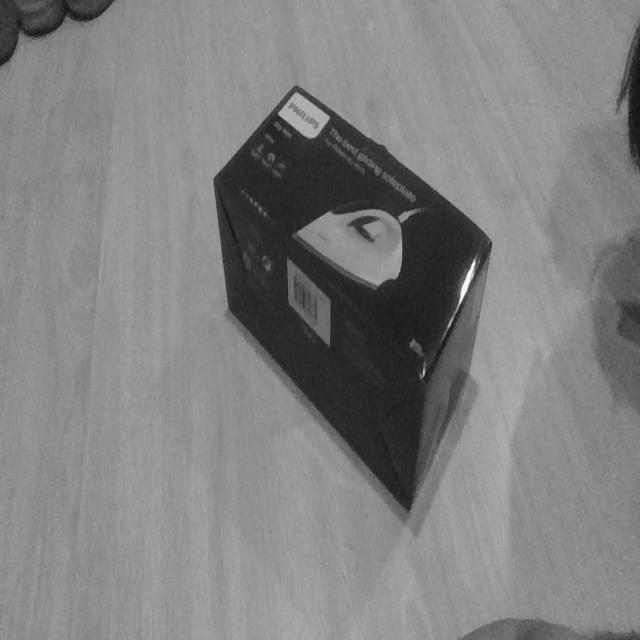IRON: (211, 81, 494, 518)
